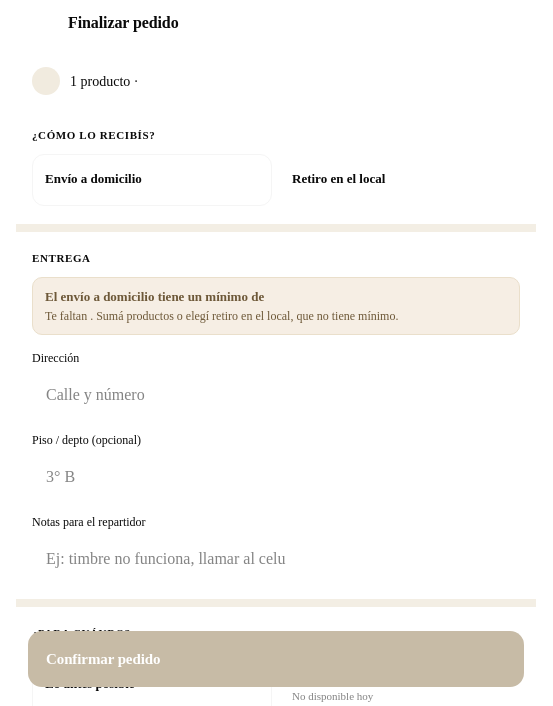
checkout · mínimo sólo en envío (H-13) › retiro: sin aviso y el confirmar queda habilitado
This screenshot has width=553, height=706.
Click the button "Retiro en el local" at (400, 180), box [280,154,520,206]
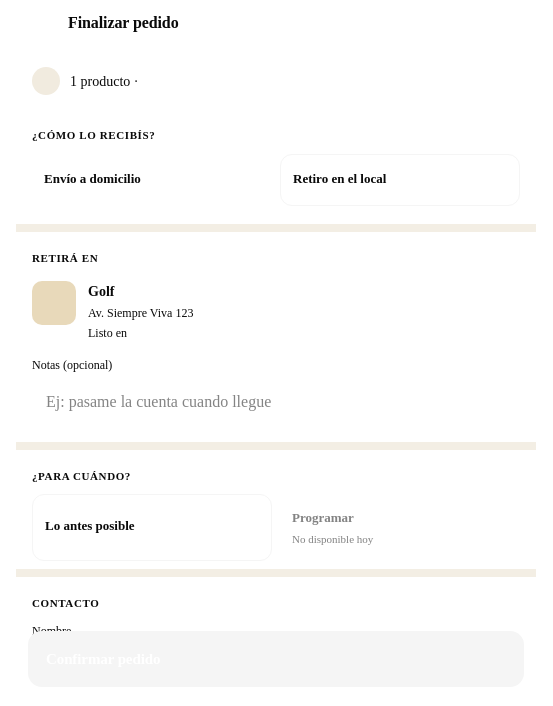
Result: the text "mínimo de" is gone
Result: the button "Confirmar pedido" is enabled at [28,631,524,687]
